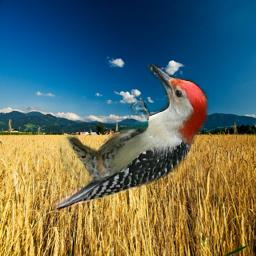Woodpecker: (52, 64, 209, 210)
